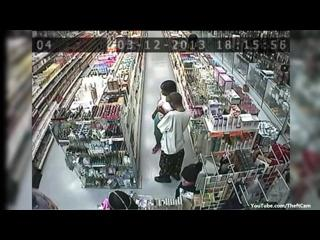Normal: (152, 92, 192, 183), (152, 80, 178, 153)
